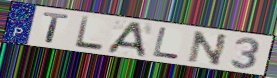3: (228, 36, 262, 71)
A: (105, 21, 148, 58)
L: (73, 15, 105, 52), (151, 26, 181, 61)
N: (186, 30, 230, 68)
T: (41, 11, 72, 45)
